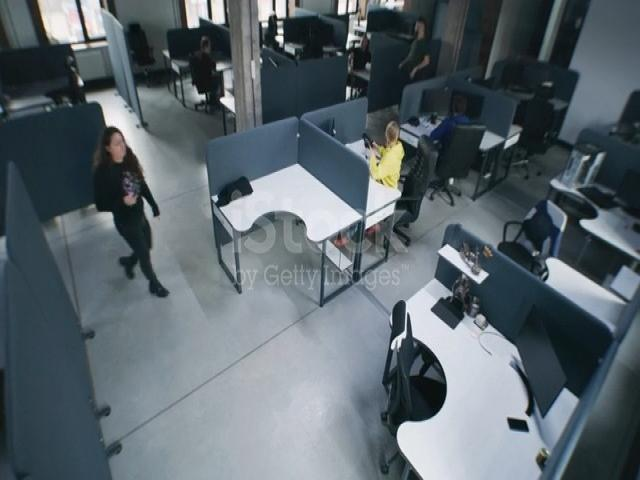empty chair: (363, 268, 466, 447), (508, 187, 572, 314), (52, 42, 104, 128), (519, 66, 560, 174), (124, 8, 169, 97), (612, 98, 640, 155)
occupiedchair: (364, 109, 440, 256), (433, 85, 488, 193), (188, 17, 238, 121), (336, 17, 386, 113)
